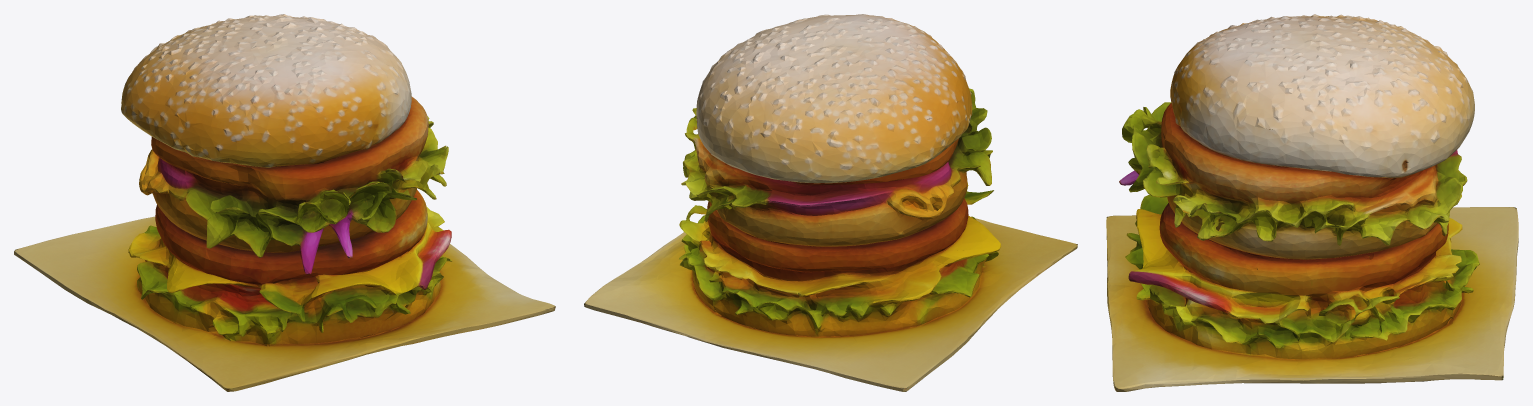
File: burger.glb
3 renders of one model, left to right at view 1: azimuth 30°, elevation 25°; view 2: azimuth 150°, elevation 25°; view 3: azimuth 270°, elevation 25°, orthographic. The views are drawn at different scales.
Visible parts, largest first — view 1: world; view 2: world; view 3: world.
Boxes of the visible parts, x1,y1,x2,y2 form: world: (14, 14, 555, 391); world: (584, 14, 1077, 391); world: (1106, 14, 1518, 391).
Bounding box in the file's own units: 0.9922 × 0.7061 × 0.9627.
Materials: 1 (1 with a texture image).
